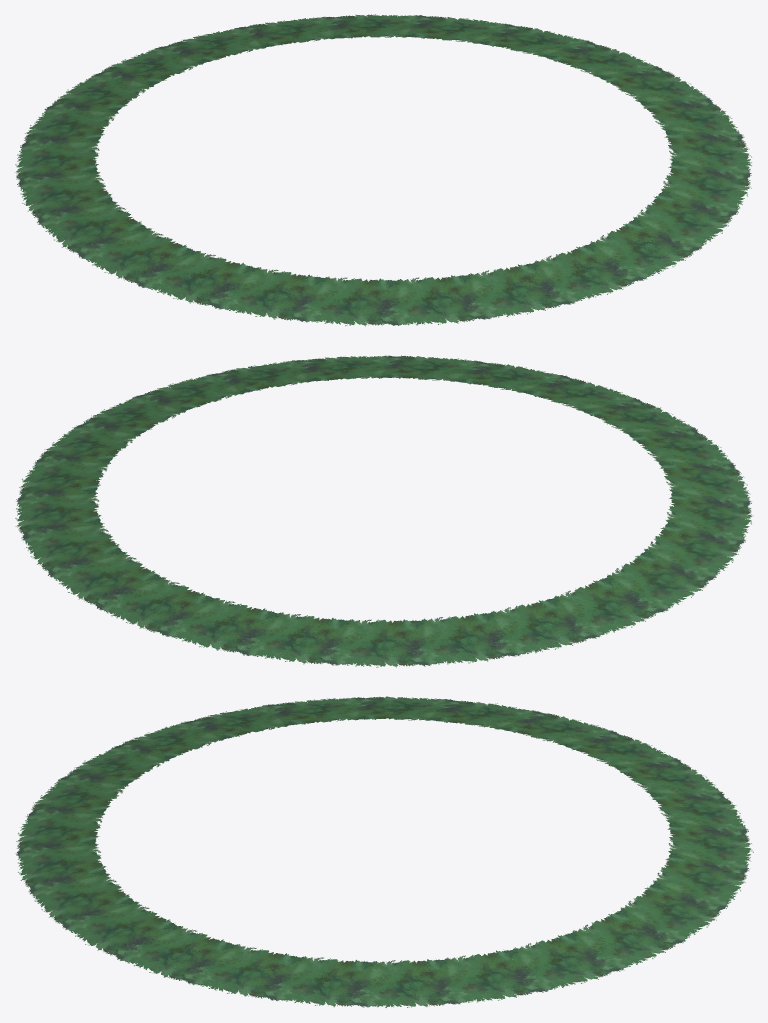
The model's file is grass_mesh_03.fbx.
The picture shows the model from 3 angles, top to bottom: view 1: azimuth 30°, elevation 25°; view 2: azimuth 150°, elevation 25°; view 3: azimuth 270°, elevation 25°; orthographic projection.
Visible parts, largest first — view 1: grass_mesh_03; view 2: grass_mesh_03; view 3: grass_mesh_03.
Boxes of the visible parts, bbox=[...] form: grass_mesh_03: bbox=[15, 14, 751, 326]; grass_mesh_03: bbox=[15, 355, 752, 667]; grass_mesh_03: bbox=[15, 696, 753, 1007].
Size of the model in its own units: 81.6 by 1.53 by 81.6.
